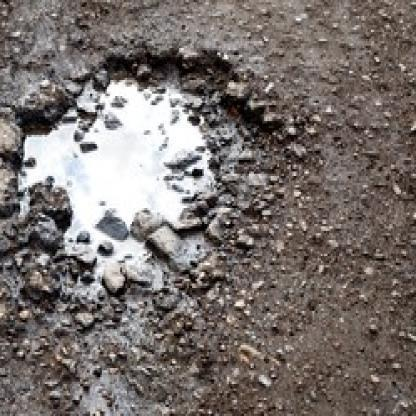pothole: (7, 37, 281, 302)
